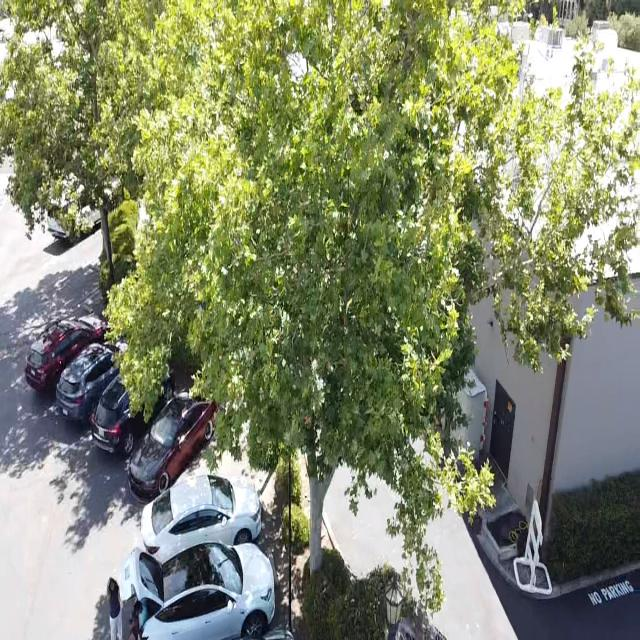Building: (462, 321, 640, 538)
Tree: (86, 0, 640, 618)
